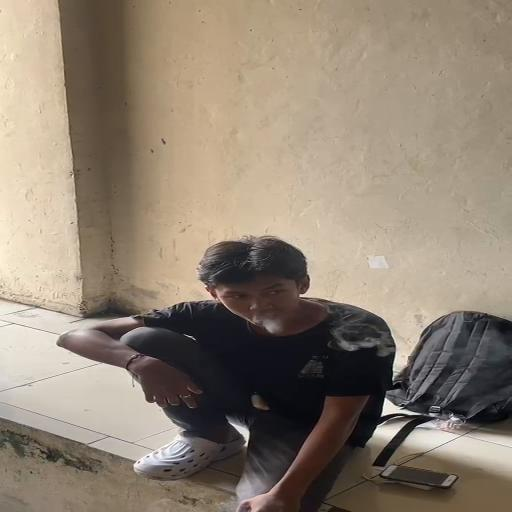asap rokok: (212, 277, 312, 346)
